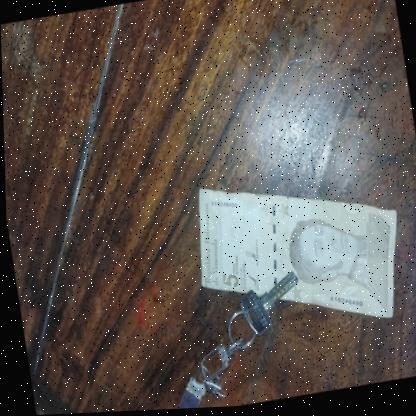five-front-vef: (185, 159, 410, 349)
